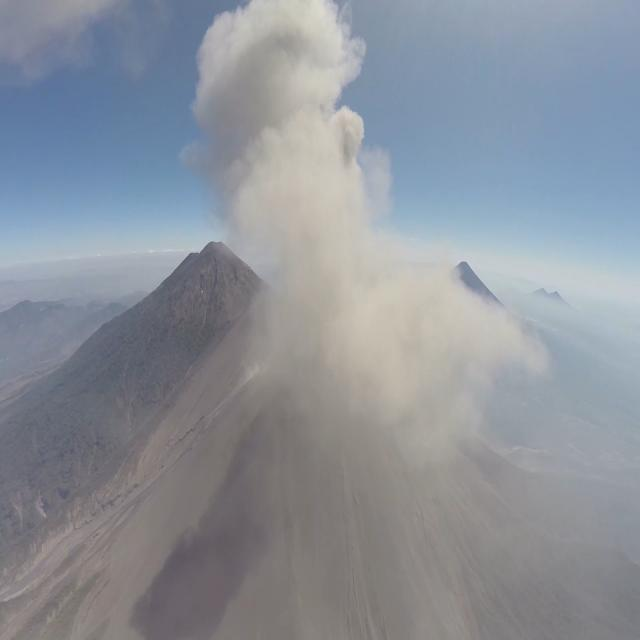Plume: (180, 0, 551, 484)
